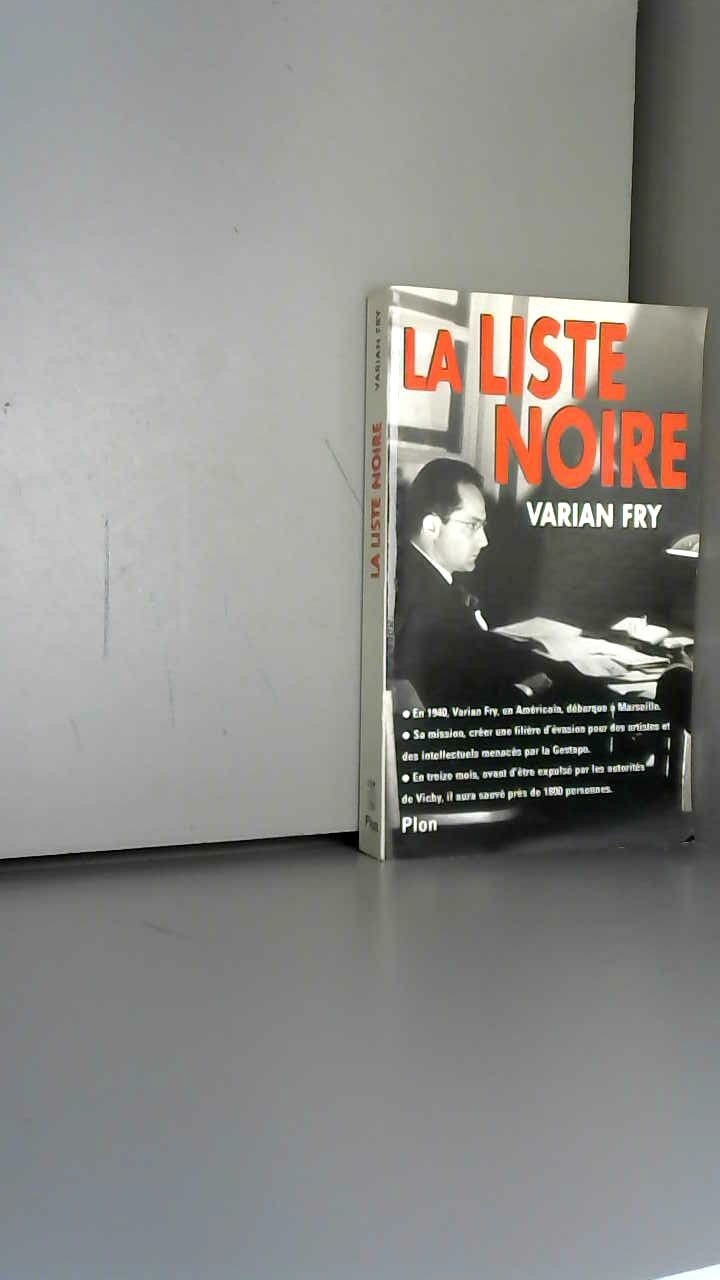book: (350, 260, 716, 891)
